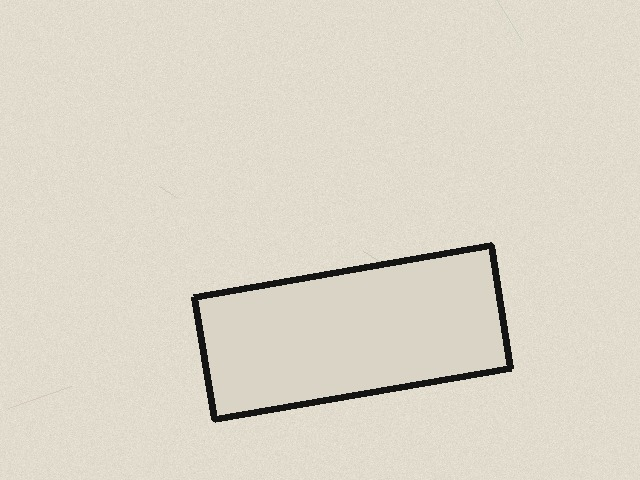parking_area: (194, 245, 510, 419)
